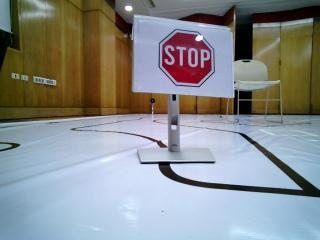stop: (134, 16, 232, 97)
